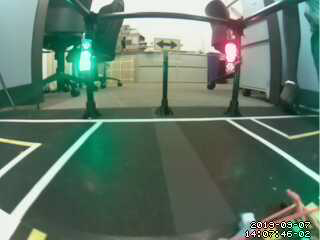Left_Right_sign: (152, 35, 183, 54)
Traffic_light_green: (78, 37, 92, 76)
Traffic_light_red: (221, 42, 241, 78)
